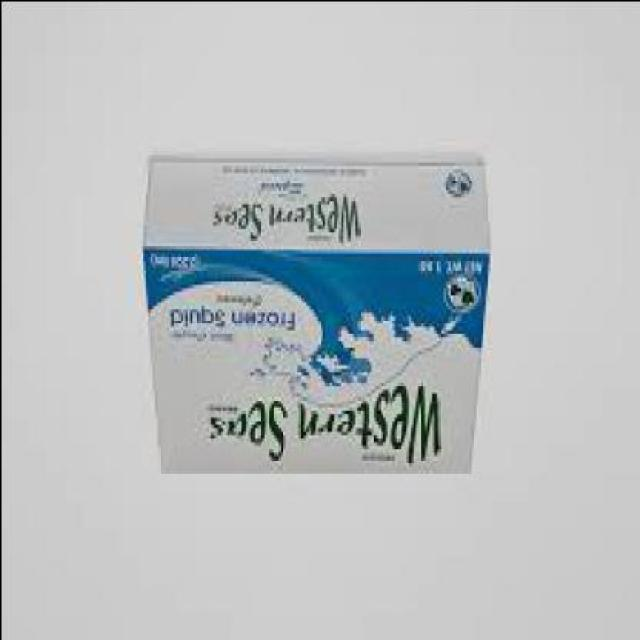CARDBOARD: (142, 157, 489, 475)
